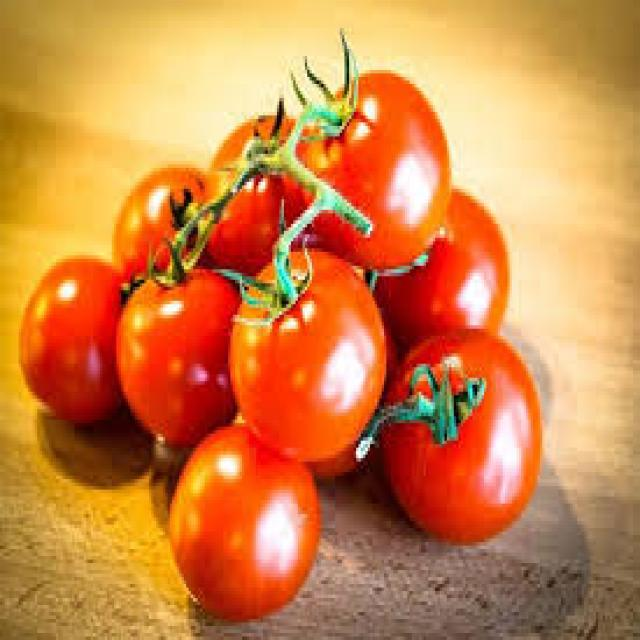tomato: (353, 328, 544, 546), (228, 248, 391, 479), (286, 70, 454, 273), (165, 423, 324, 623), (116, 269, 242, 455), (368, 189, 512, 344), (19, 255, 126, 427)
